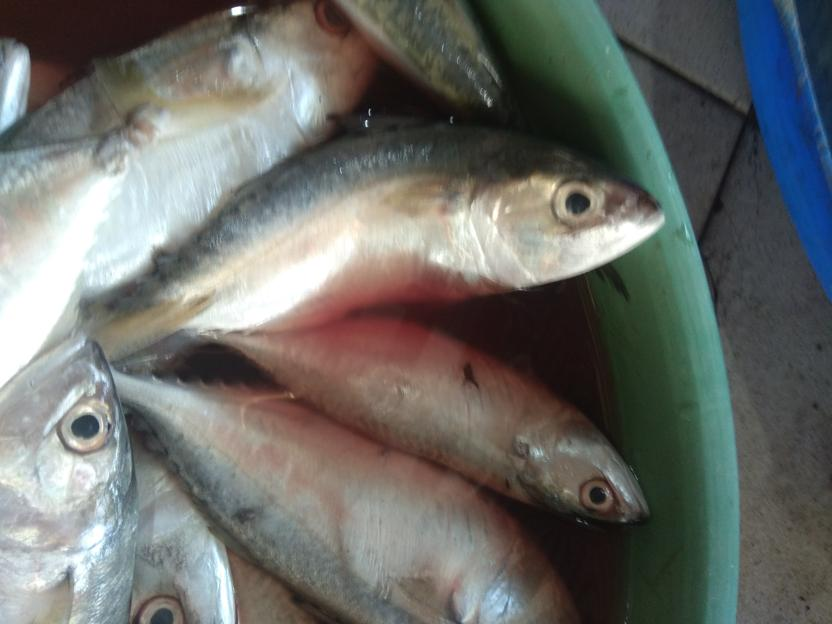Fish head: (1, 333, 139, 547), (470, 141, 670, 281), (519, 409, 652, 525), (127, 494, 235, 624)
Fish tail: (84, 48, 281, 137), (84, 287, 218, 362)
